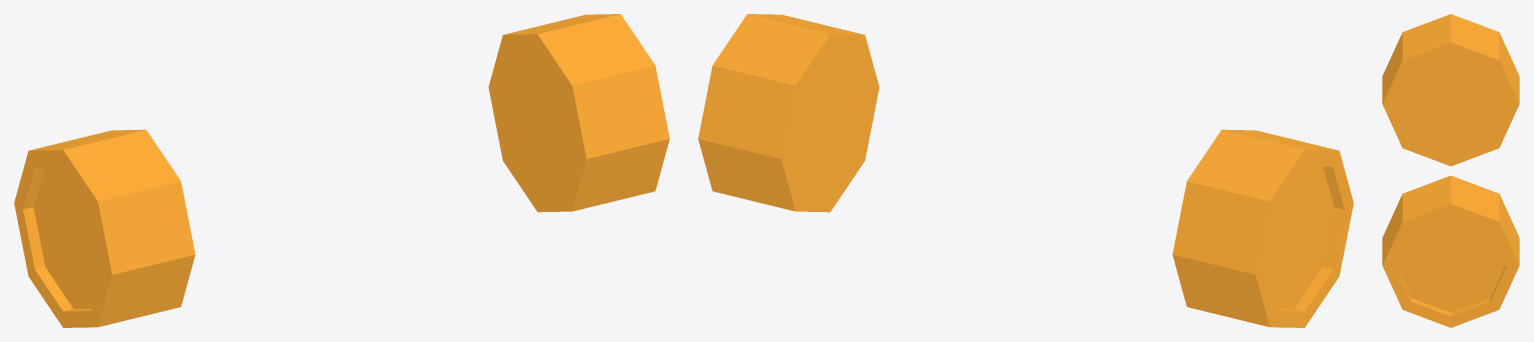
File: crane-crawler-wheel_B.glb
3 views of the same model, side by side, from view 1: azimuth 30°, elevation 25°; view 2: azimuth 150°, elevation 25°; view 3: azimuth 270°, elevation 25° (orthographic). The views are drawn at different scales.
Visible parts, largest first — view 1: crane-crawler-wheel_B; view 2: crane-crawler-wheel_B; view 3: crane-crawler-wheel_B.
Boxes of the visible parts, x1,y1,x2,y2 form: crane-crawler-wheel_B: (14,14,669,327); crane-crawler-wheel_B: (698,14,1353,327); crane-crawler-wheel_B: (1382,14,1519,327).
Bounding box in the file's own units: 2.68 × 0.818 × 0.818.
1 material, 1 textured.
